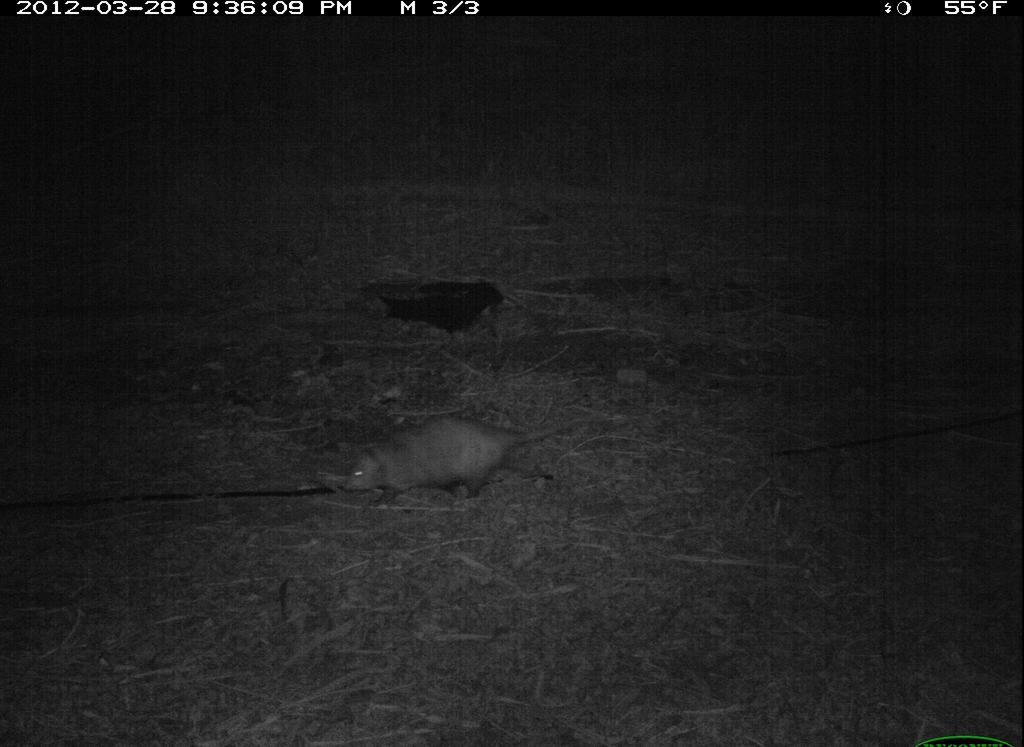opossum: (332, 408, 601, 518)
